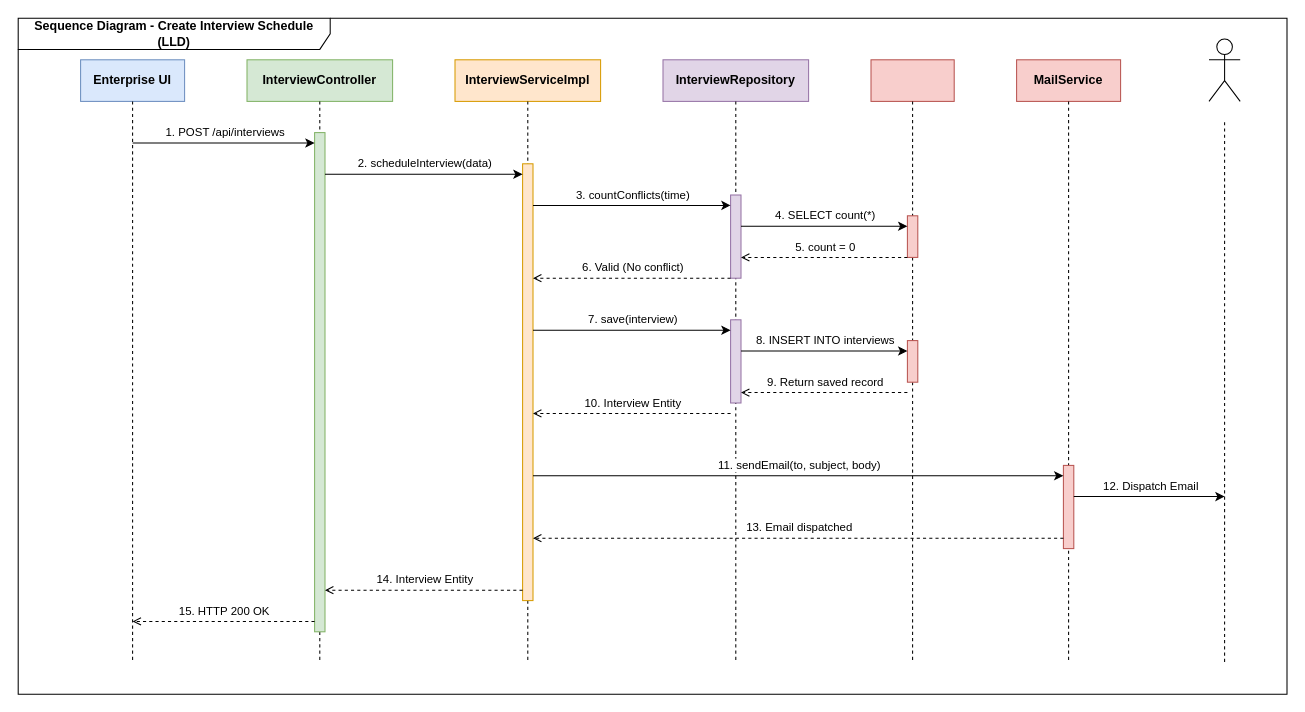
The diagram is 1305 pixels wide and 712 high, and some of its shapes have lost their labels. The shapes that lost their labels are listed below. From the top down, each one's centre as x and y in pixels, then its label:
(x=912, y=80): Database
(x=1224, y=69): Student
